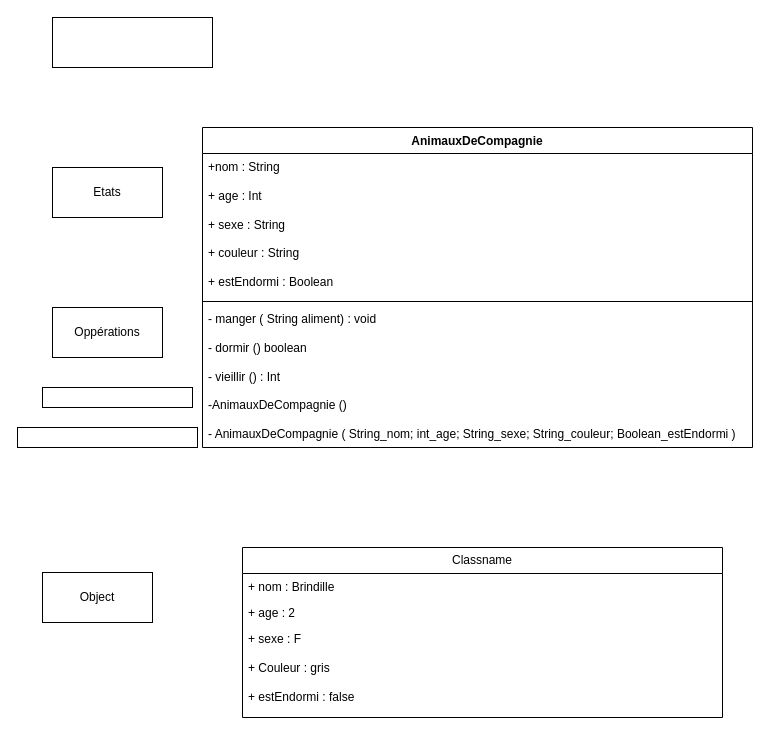
Image size: 770x738. Some labels were removed from this diagram. Each missing label, with the centre of its shape:
"constructeur avec parmètre" belongs at (107,437).
"construteur par défaut" belongs at (117,397).
"Diagrame de classe" belongs at (132,42).
